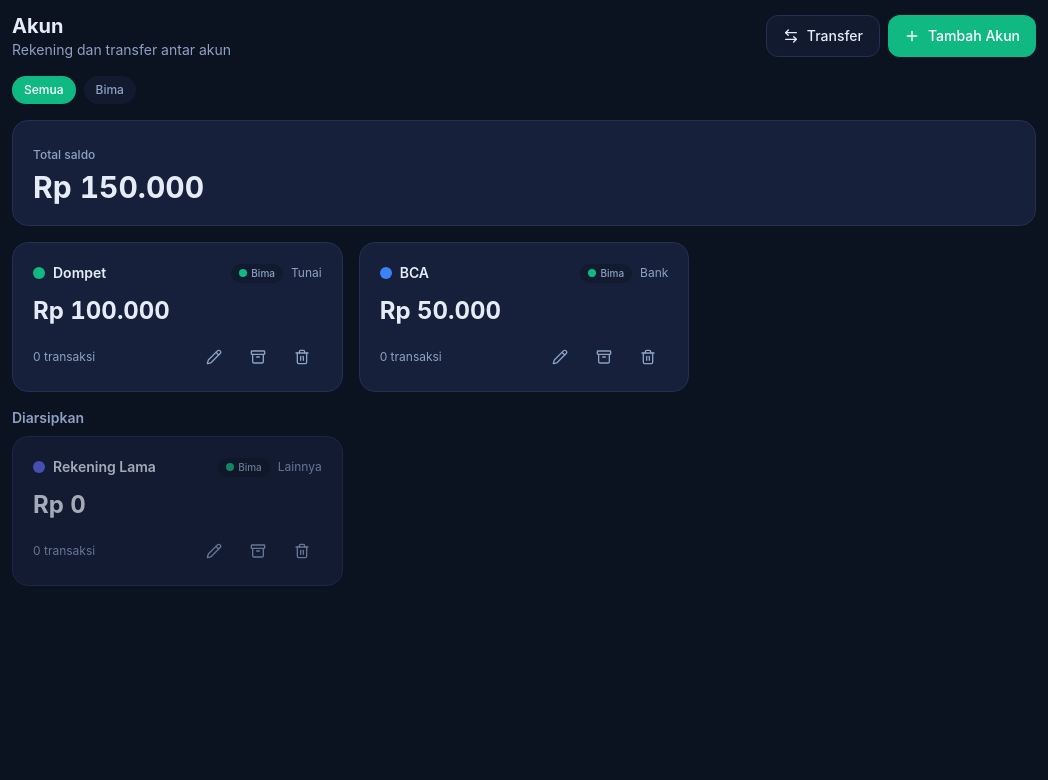
Scenario: AccountsPage › archives an account through the toggle button
Expected: the heading "Dompet" is shown, 53,264 -> 106,281
Click the button named "Arsipkan" below "Rp 100.000" at (258, 357), box 238,343 -> 278,371
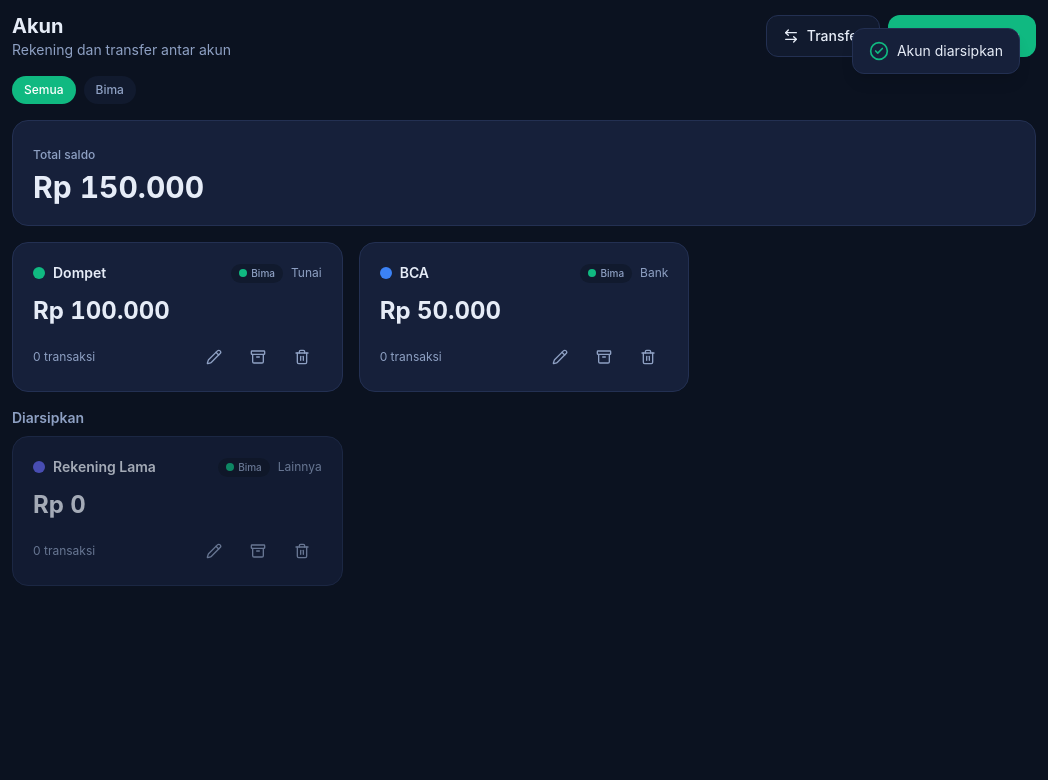
Expected: the text "Akun diarsipkan" is shown, 897,41 -> 1003,61
